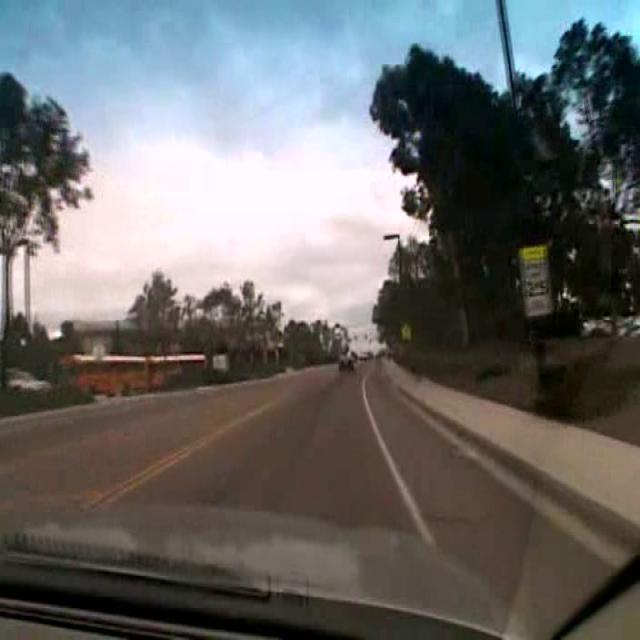speedLimit25: (519, 241, 555, 319)
